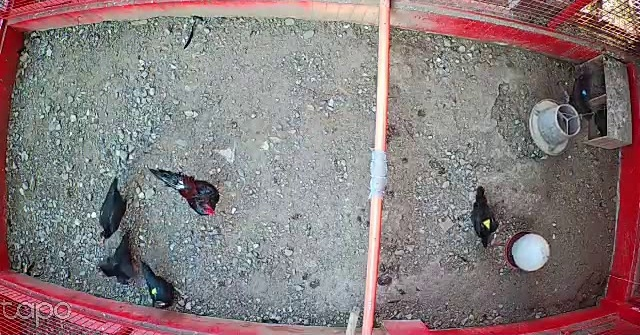Chicken: (96, 173, 132, 241), (470, 180, 501, 252), (140, 258, 178, 312), (104, 231, 136, 289)
Rooster: (147, 159, 226, 220)
Saddle_Color_Blue: (582, 91, 588, 97)
Saddle_Color_Yellow: (481, 220, 495, 230), (153, 286, 159, 295)
